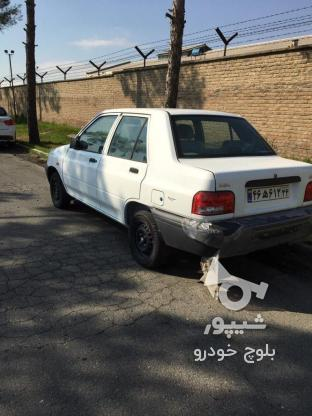car: (245, 184, 291, 201)
